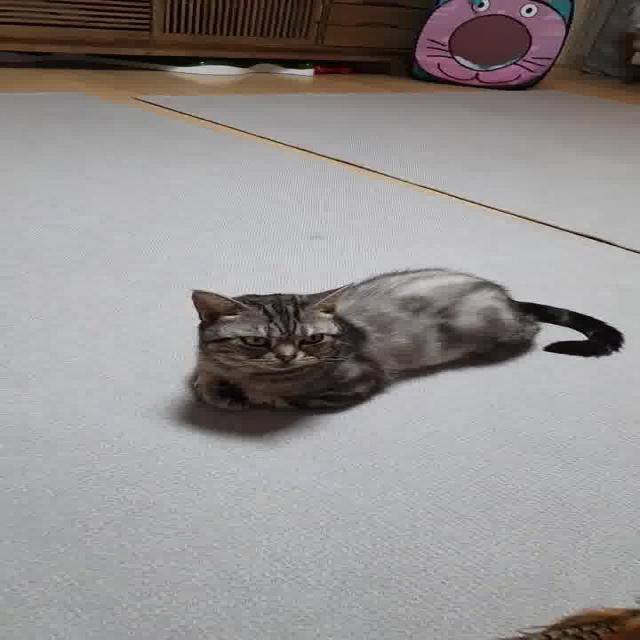cat: (158, 261, 640, 425)
